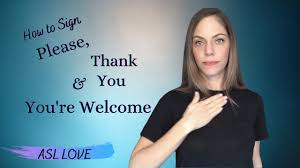ThankYou: (182, 91, 227, 125)
